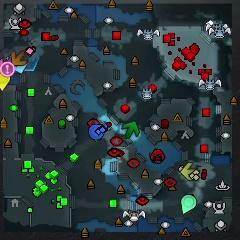p1: (89, 124, 108, 140)
p2: (181, 195, 197, 214)
p4: (0, 74, 10, 91)
x1: (0, 56, 12, 67)
x2: (181, 162, 200, 181)
x3: (14, 65, 27, 74)
x4: (122, 121, 139, 139)
x5: (12, 51, 27, 66)
